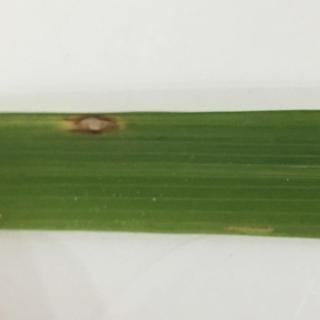Blast: (49, 100, 131, 150)
